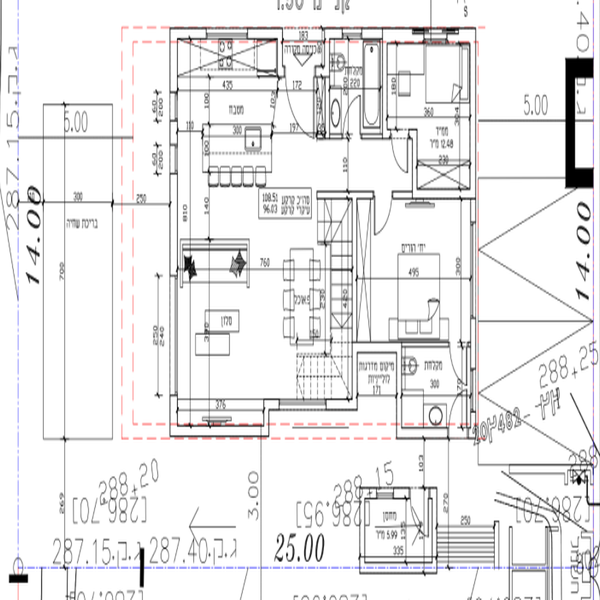room: (172, 31, 480, 194), (166, 193, 360, 409)
